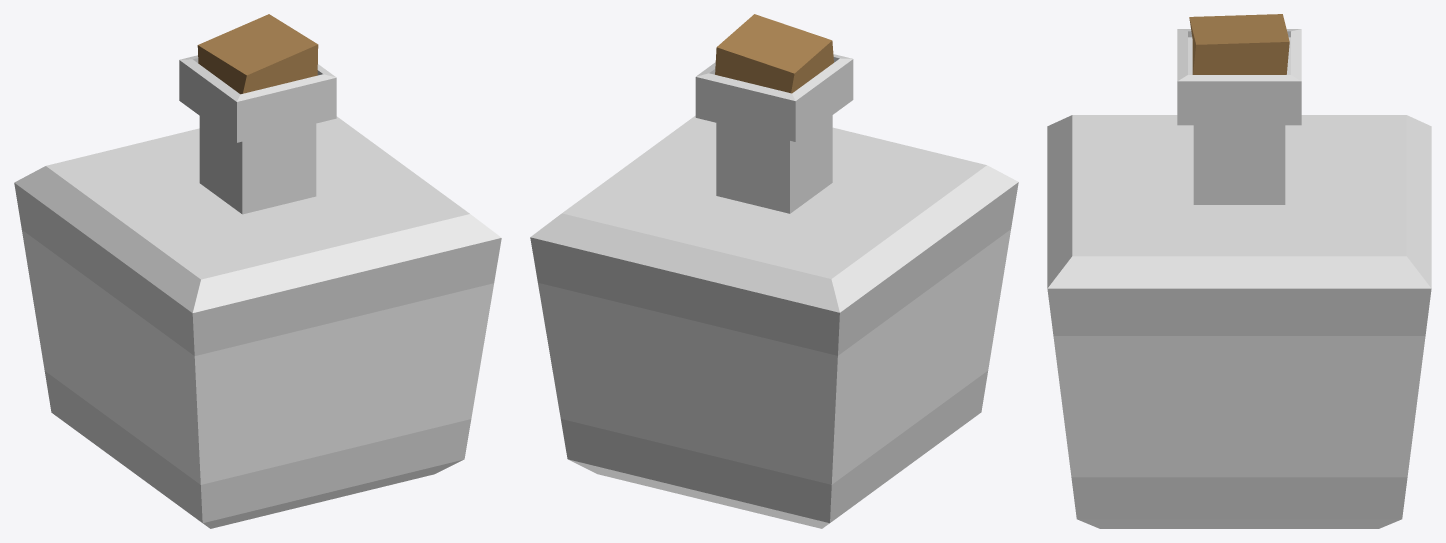
Rendered from Ingredient_Spiritus.fbx.
The picture shows the model from 3 angles, left to right: view 1: azimuth 30°, elevation 25°; view 2: azimuth 150°, elevation 25°; view 3: azimuth 270°, elevation 25°; orthographic projection. The views are drawn at different scales.
Parts seen in each view (by area): view 1: Alcohol; view 2: Alcohol; view 3: Alcohol.
Boxes of the visible parts, x1,y1,x2,y2 form: Alcohol: [14, 14, 501, 528]; Alcohol: [530, 14, 1018, 528]; Alcohol: [1047, 14, 1431, 528].
Size of the model in its own units: 20 by 25.64 by 20.
